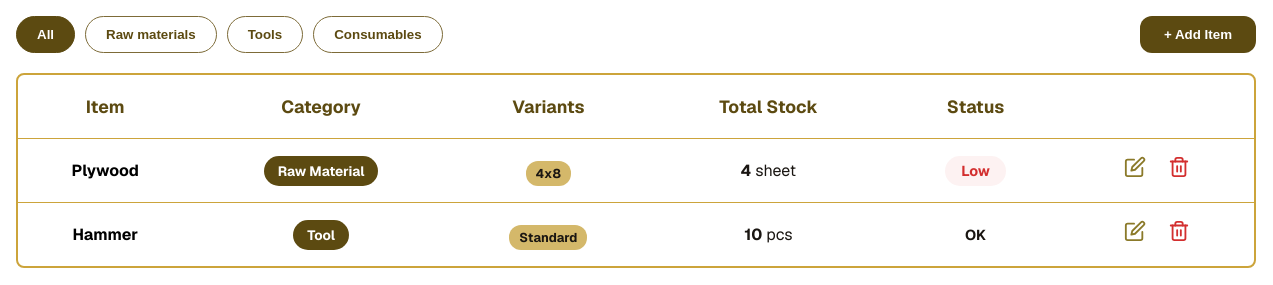
Test: InventoryTable › edit/delete/category filter › category filter narrows the list, and shows the empty message for a category with no items
expect the text "Plywood" is shown: met, box [18, 138, 192, 202]
expect the text "Hammer" is shown: met, box [18, 202, 192, 266]
Step 1. Click the button "Raw materials" → {"x": 151, "y": 34}, box [85, 16, 217, 53]
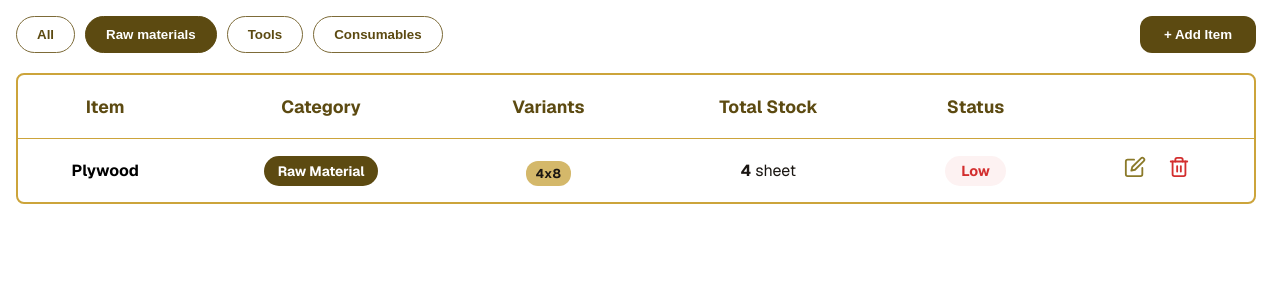
expect the text "Plywood" is shown: met, box [18, 138, 192, 202]
expect the text "Hammer" is gone: met
Step 2. Click the button "Consumables" → {"x": 378, "y": 34}, box [313, 16, 443, 53]
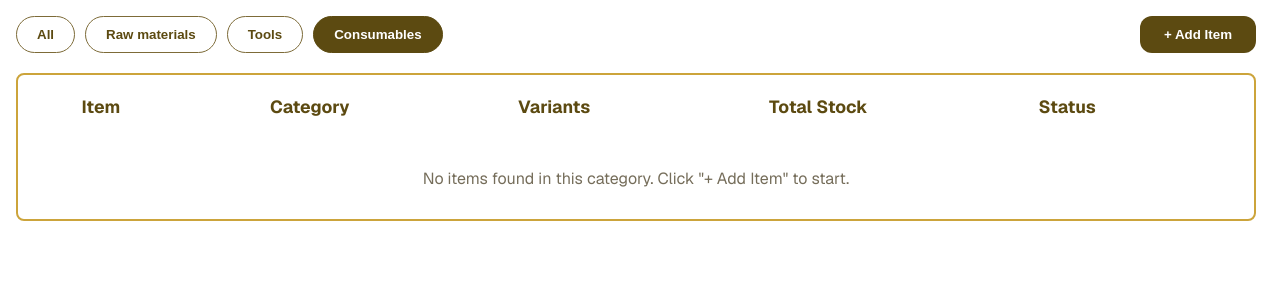
expect the text "Plywood" is gone: met
expect the text "No items found in this category" is shown: met, box [423, 168, 849, 189]
